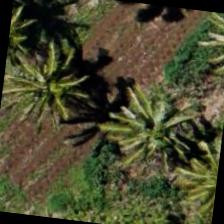Kelapa_Sawit: (110, 100, 210, 200), (6, 43, 106, 143), (163, 131, 223, 223)
